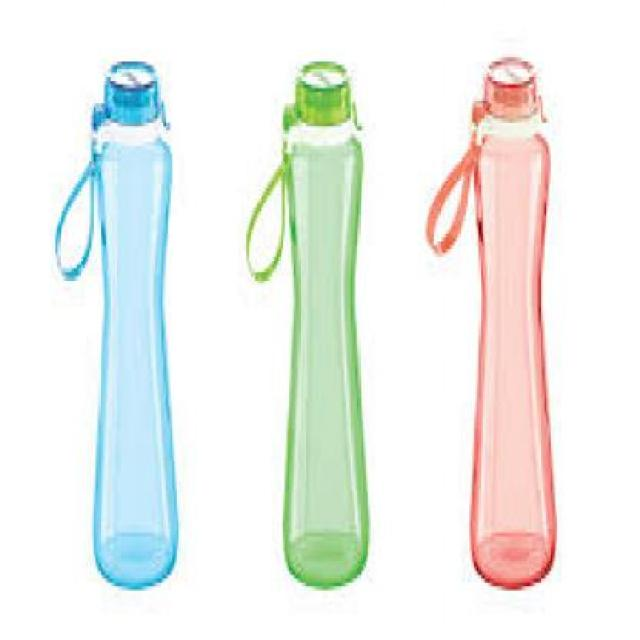Drinking: (453, 46, 564, 602)
